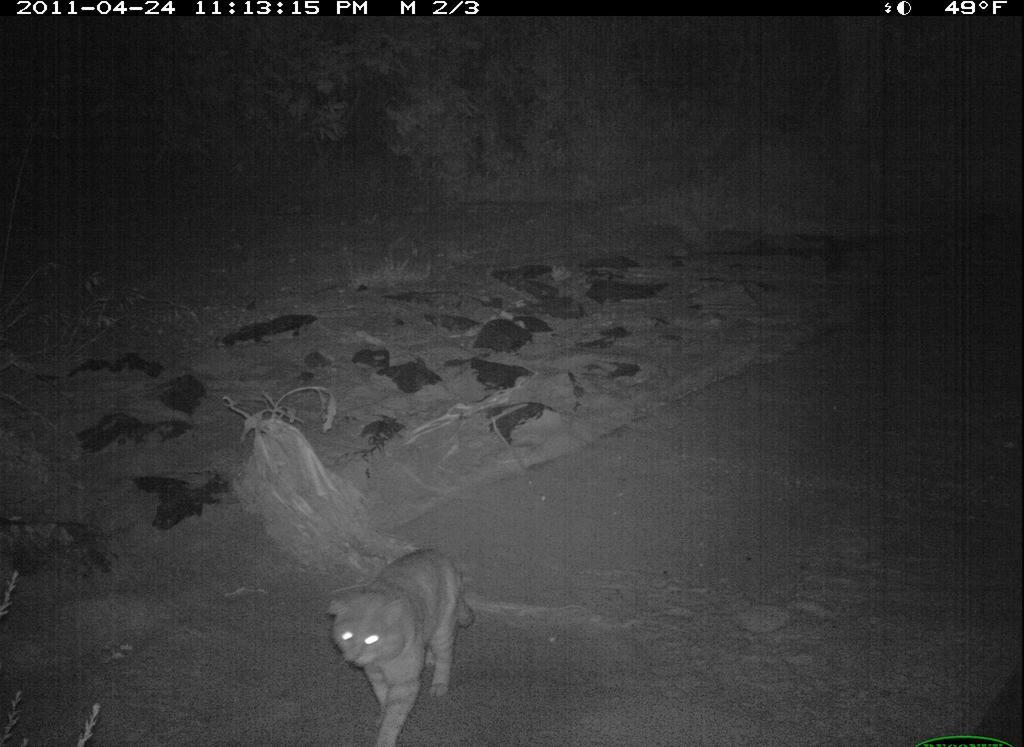cat: (313, 521, 493, 747)
